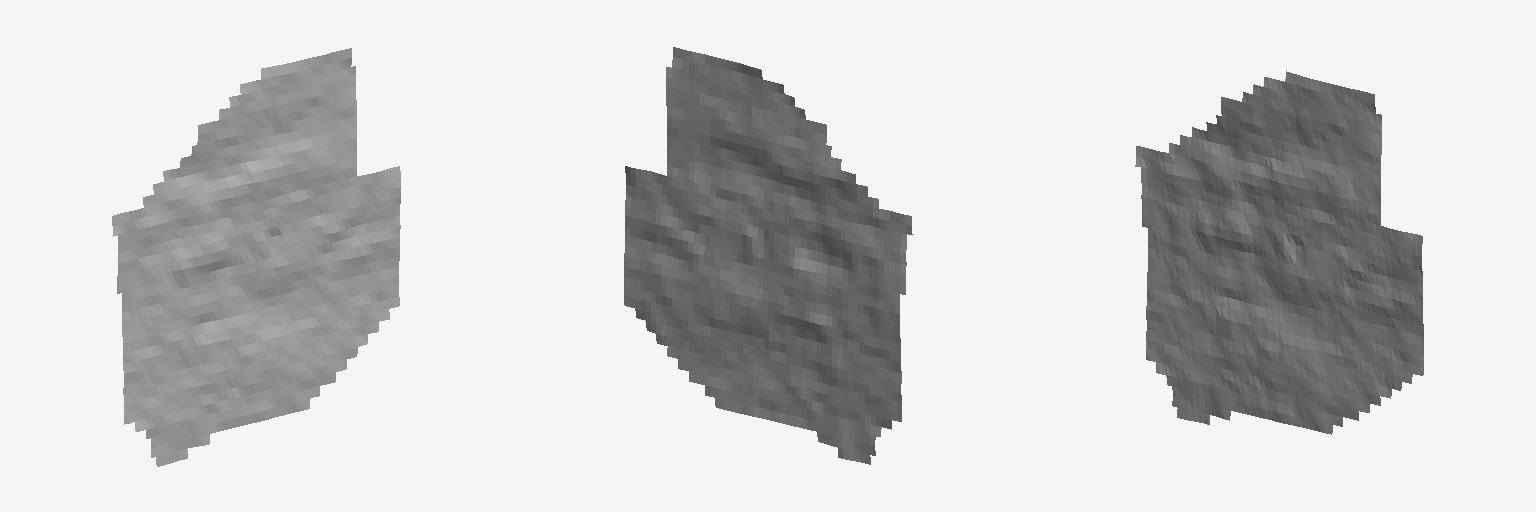
The picture shows the model from 3 angles: view 1: azimuth 30°, elevation 25°; view 2: azimuth 150°, elevation 25°; view 3: azimuth 330°, elevation 25°; orthographic projection.
Parts seen in each view (by area): view 1: EXPORT_GOOGLE_SAT_WM.001; view 2: EXPORT_GOOGLE_SAT_WM.001; view 3: EXPORT_GOOGLE_SAT_WM.001.
Boxes of the visible parts, box(x1,y1,x2,y2) form: EXPORT_GOOGLE_SAT_WM.001: box(112, 48, 400, 466); EXPORT_GOOGLE_SAT_WM.001: box(624, 47, 912, 464); EXPORT_GOOGLE_SAT_WM.001: box(1135, 71, 1423, 434).
Size of the model in its own units: 75.47 by 93.08 by 2.1.